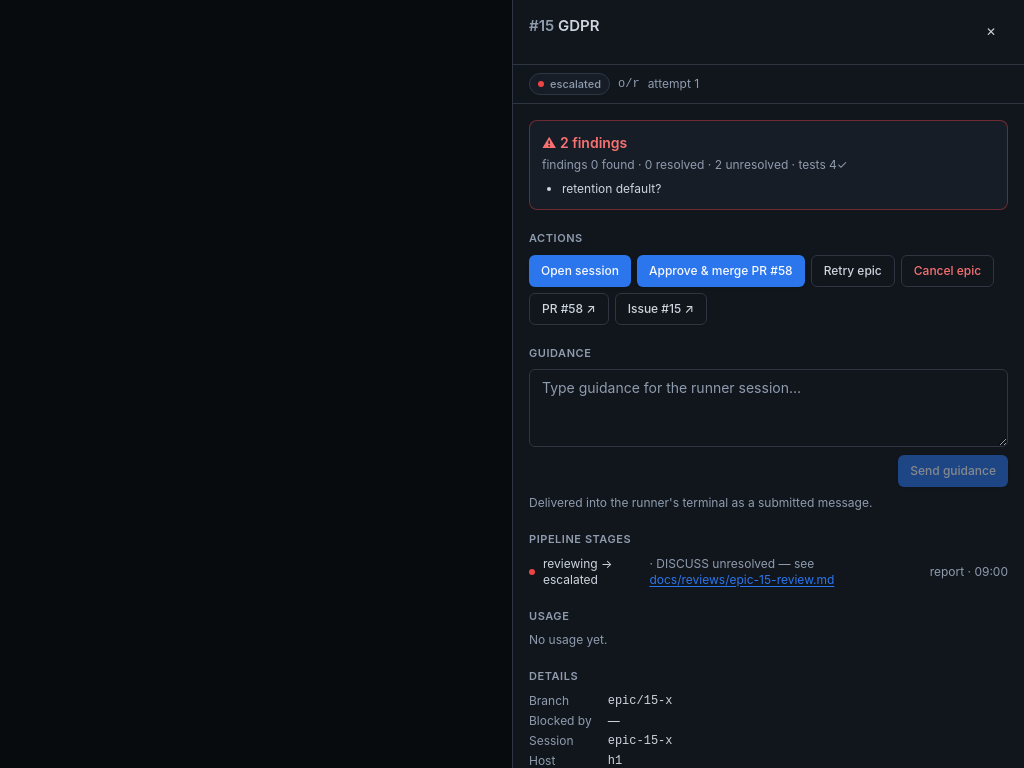
Test: EpicDrawer › opens a clickable review artifact from an event note
The image size is (1024, 768).
Click the button "docs/reviews/epic-15-review.md" at (742, 580), box [650,572,834,588]
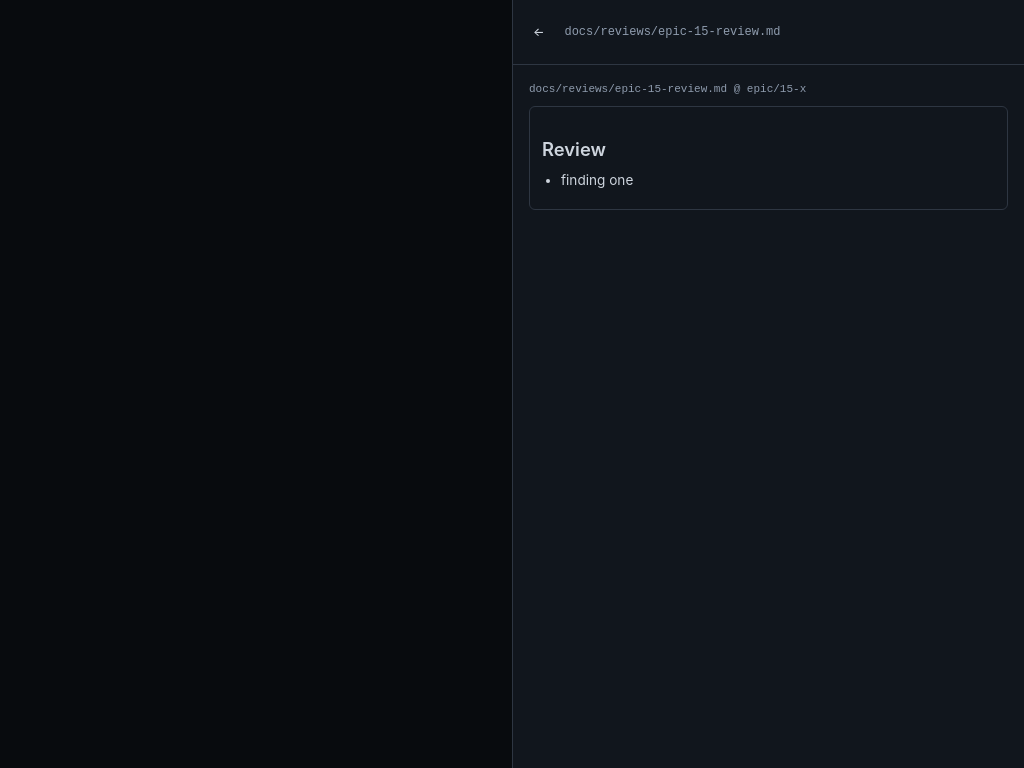
expect the heading "Review" is shown: met, box [542,138,606,160]
